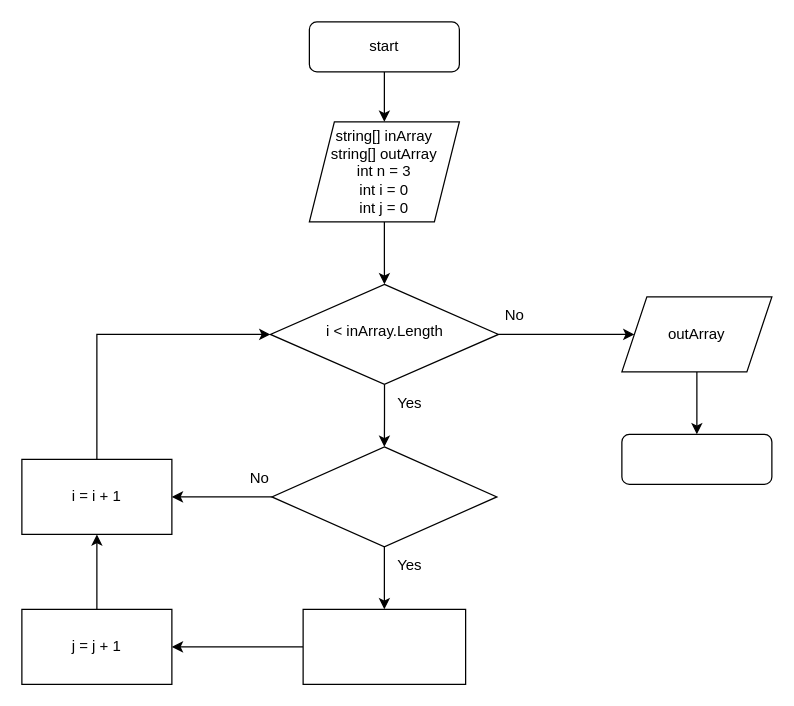
Some shapes in this 794 by 706 pixel diagram are drawn without their labels. The shapes that lost their labels are listed below. From the top down, each one's centre as x and y in pixels, then its label:
the point at 696,458: finish
the point at 384,496: inArray[i].Length <= n
the point at 384,646: outArray[j] = inArray[i]
